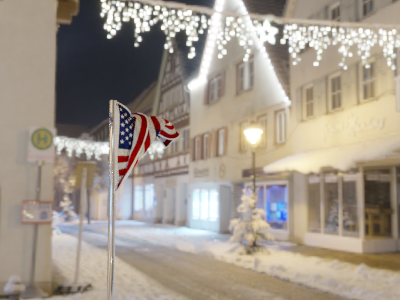America flag: (112, 98, 181, 193)
